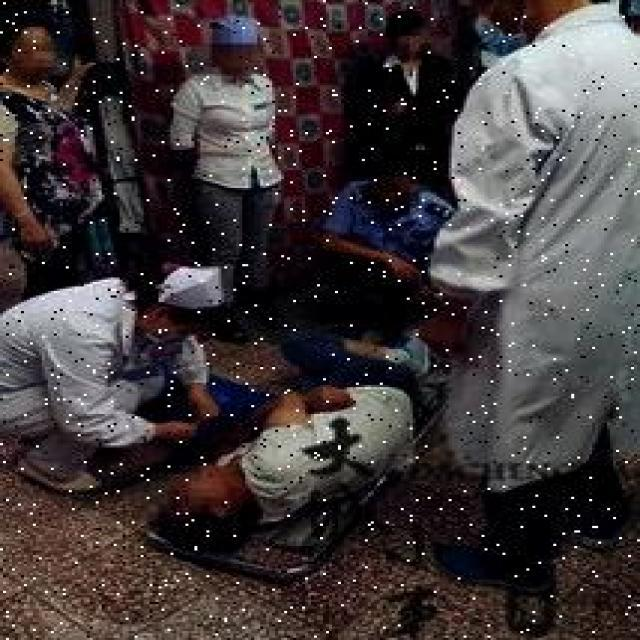fall: (152, 334, 430, 562)
